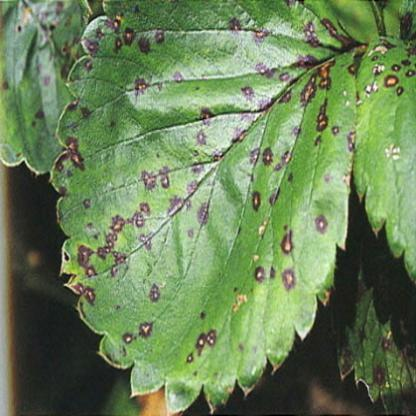Strawberry_Leaf_Spot: (47, 0, 366, 415), (330, 203, 415, 416), (0, 0, 93, 177), (352, 34, 416, 283)
